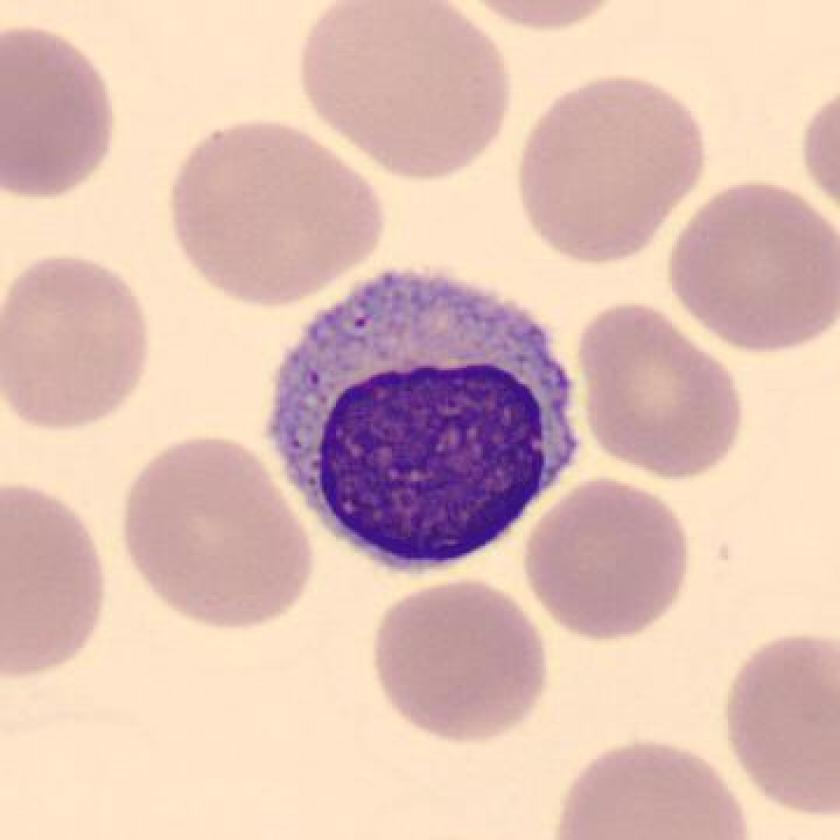lymphocyte: (244, 254, 598, 587)
